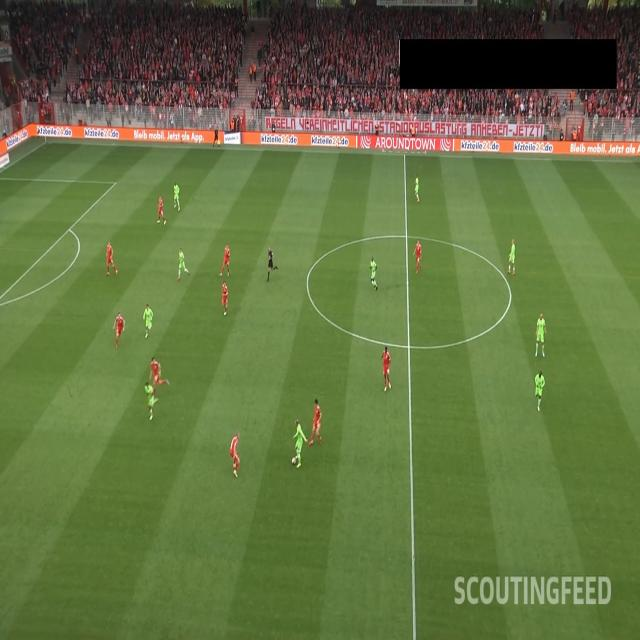ball: (292, 456, 296, 465)
